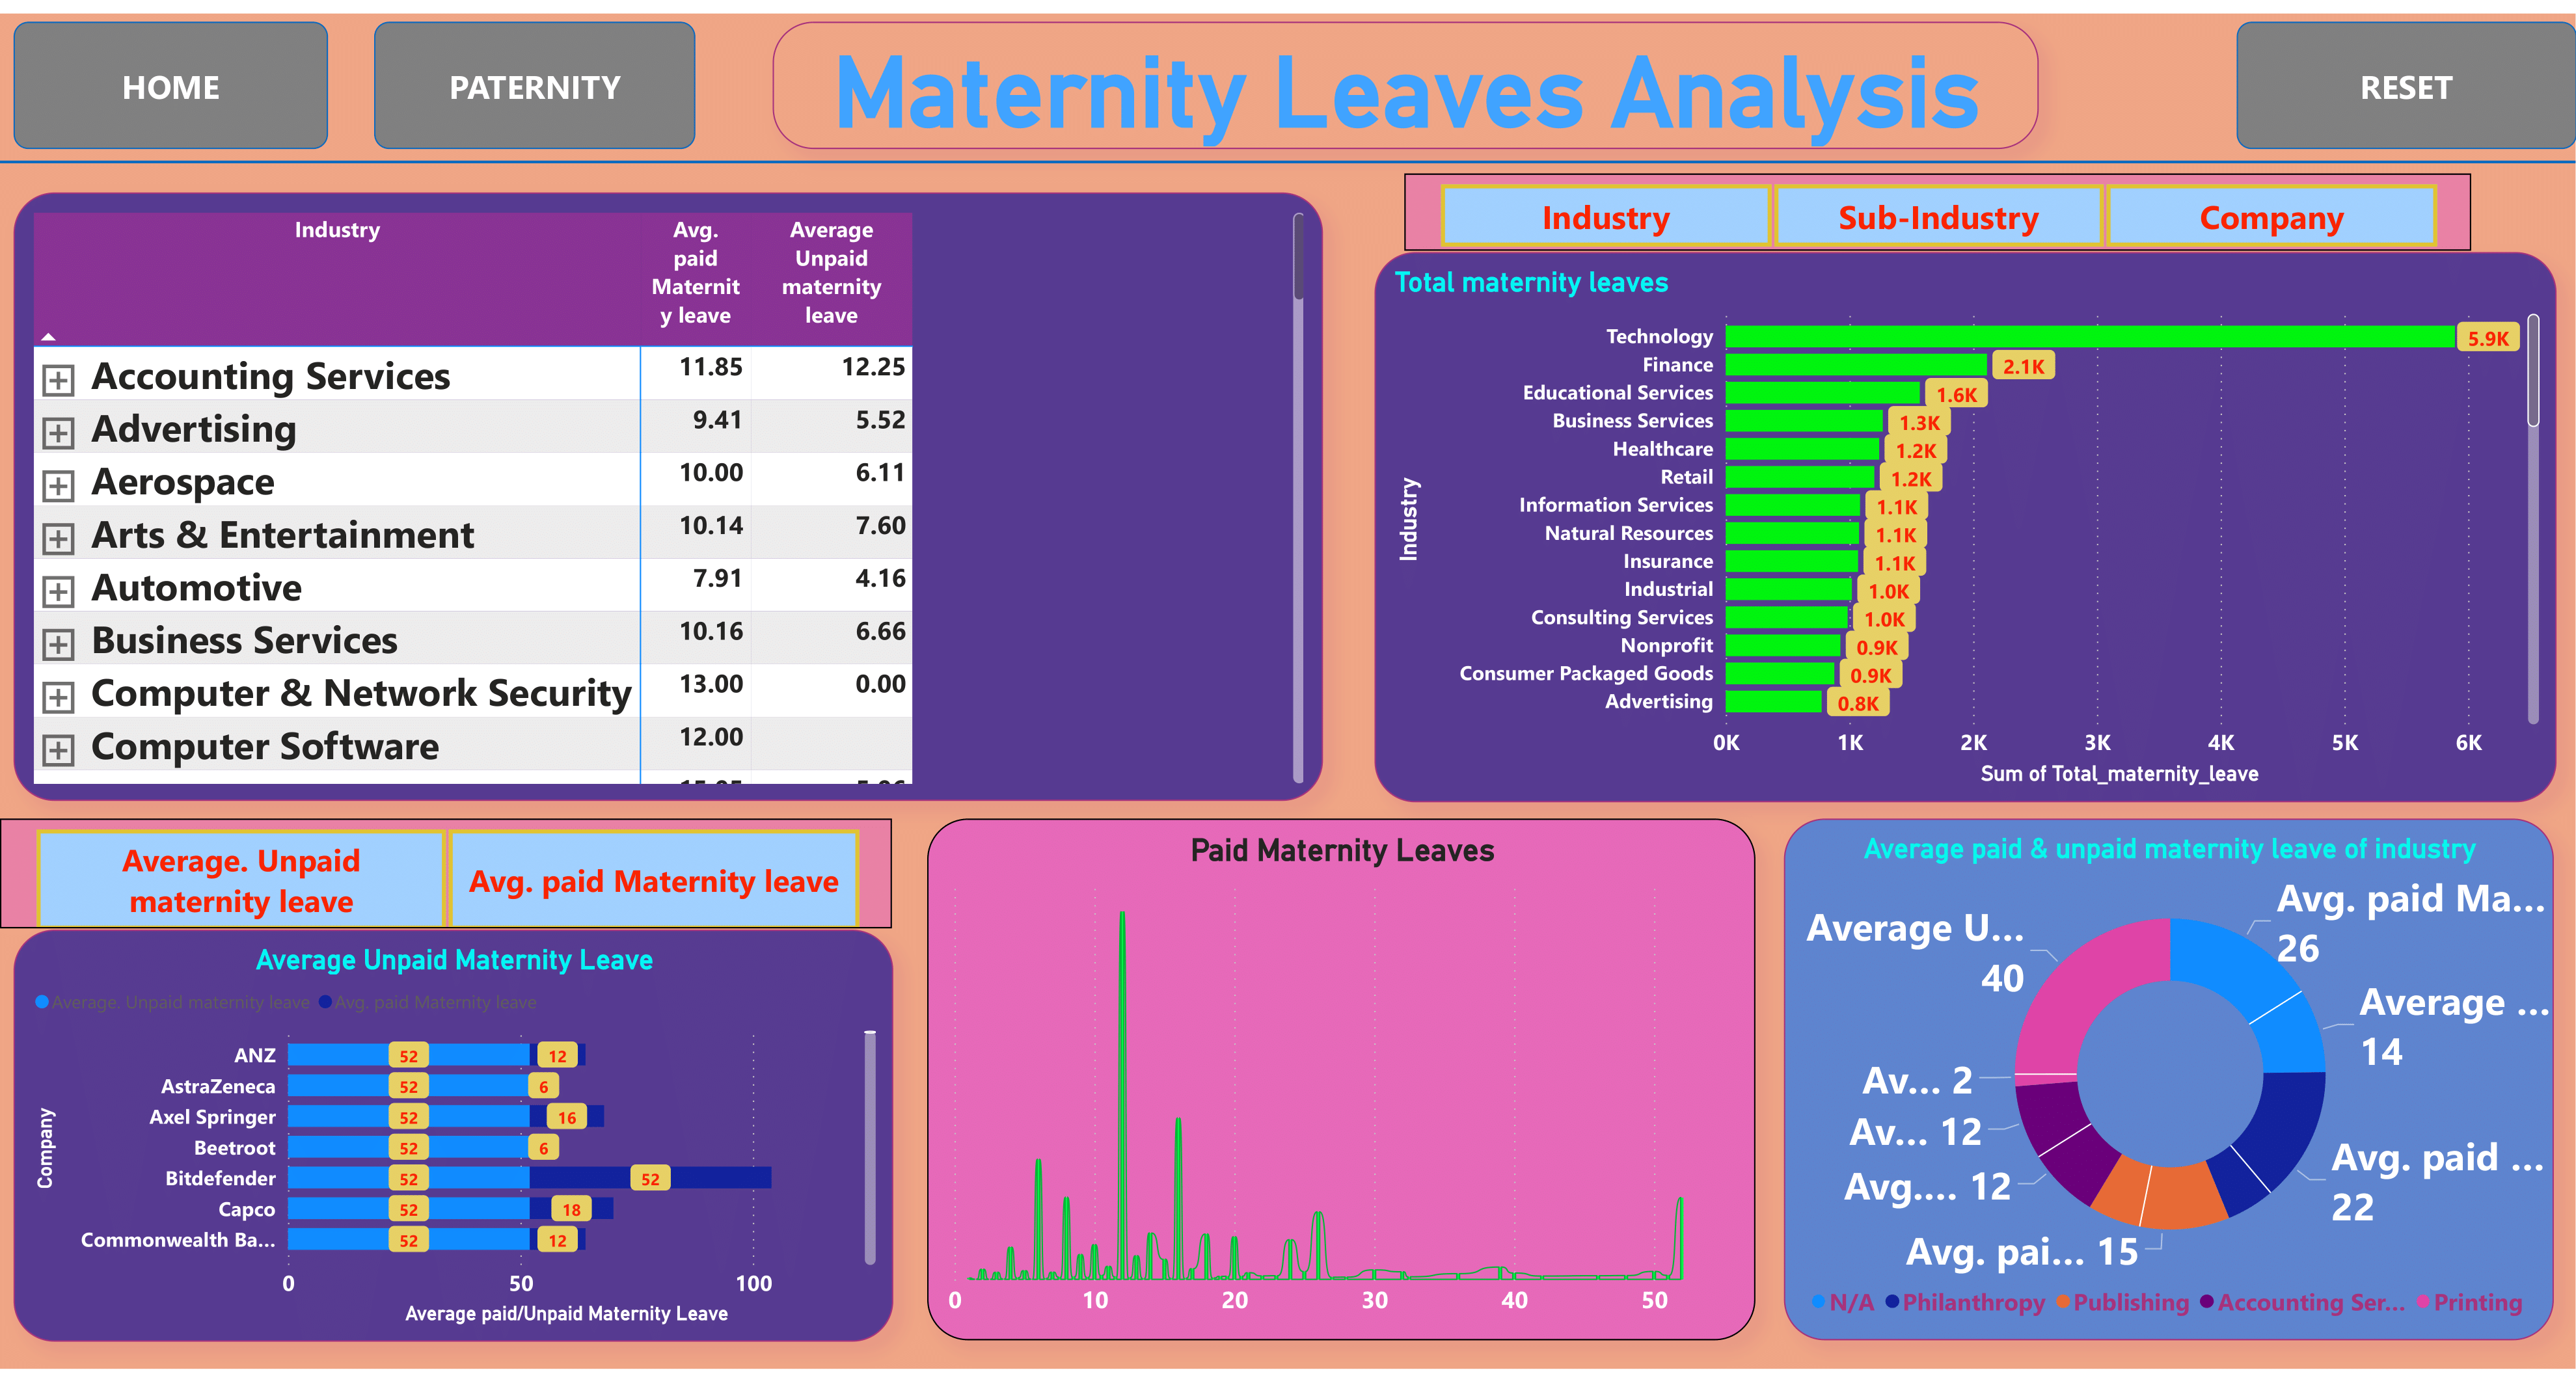

This screenshot's page, from the dashboard's own definition file:
{"tool":"powerbi","page":{"name":"Maternity","canvas":[1900,1000],"ordinal":1},"visuals":[{"type":"pivotTable","fields":{"Rows":["parental_leave.Industry","parental_leave.Company"],"Values":["data_dictionary.Avg. paid Maternity leave","data_dictionary.Avd. Unpaid maternity leave"]},"box":[9.4,132.1,966,449.1],"z":0},{"type":"clusteredBarChart","title":" Total maternity leaves","fields":{"Category":["parental_leave.Industry","parental_leave.Sub-Industry","parental_leave.Company"],"Y":["Sum(parental_leave.Total_maternity_leave)"]},"box":[1013.2,175.5,871.7,405.7],"z":1000},{"type":"slicer","fields":{"Values":["Parameter_master.Parameter_master"]},"box":[1035.8,118.9,786.8,56.6],"z":2000},{"type":"barChart","title":"Average Unpaid Maternity Leave","fields":{"Y":["data_dictionary.Average Unpaid maternity leave","data_dictionary.Avg. paid Maternity leave"],"Category":["parental_leave.Industry","parental_leave.Sub-Industry","parental_leave.Company"]},"box":[9.4,675.5,649,303.8],"z":3000},{"type":"slicer","fields":{"Values":["Parameter_maternity.Parameter_maternity"]},"box":[0,594.3,658.5,81.1],"z":4000},{"type":"donutChart","title":"Average paid & unpaid maternity leave of industry","fields":{"Category":["parental_leave.Industry"],"Y":["data_dictionary.Avg. paid Maternity leave","data_dictionary.Avd. Unpaid maternity leave"]},"box":[1317,594.3,567.9,384.9],"z":5000},{"type":"ribbonChart","title":"Paid Maternity Leaves","fields":{"Category":["parental_leave.Paid Maternity Leave"],"Y":["Sum(parental_leave.Paid Maternity Leave)"]},"box":[684.9,594.3,611.3,384.9],"z":6000},{"type":"textbox","title":"Maternity Leaves Analysis","box":[569.8,5.7,934,94.3],"z":7000},{"type":"shape","box":[9.4,5.7,232.1,94.3],"z":8000},{"type":"shape","box":[275.8,6.5,237.1,93.5],"z":9000},{"type":"shape","box":[1649,5.7,250.9,94.3],"z":10000},{"type":"shape","box":[0,100,1900,18.9],"z":11000}]}

Visuals, with their boxes in screenshot pixels (x1, y1, x2, y2), scaled from the page's 1900x1000 canvas onto the 2576x1383 screenshot:
pivotTable - parental_leave.Industry x parental_leave.Company: bbox(13, 183, 1322, 804)
" Total maternity leaves" clusteredBarChart: bbox(1374, 243, 2556, 804)
slicer - Parameter_master.Parameter_master: bbox(1404, 165, 2471, 243)
"Average Unpaid Maternity Leave" barChart: bbox(13, 934, 893, 1354)
slicer - Parameter_maternity.Parameter_maternity: bbox(0, 822, 893, 934)
"Average paid & unpaid maternity leave of industry" donutChart: bbox(1785, 822, 2556, 1354)
"Paid Maternity Leaves" ribbonChart: bbox(929, 822, 1757, 1354)
"Maternity Leaves Analysis" textbox: bbox(772, 8, 2039, 139)
shape: bbox(13, 8, 327, 139)
shape: bbox(374, 9, 696, 139)
shape: bbox(2236, 8, 2575, 139)
shape: bbox(0, 139, 2575, 165)
